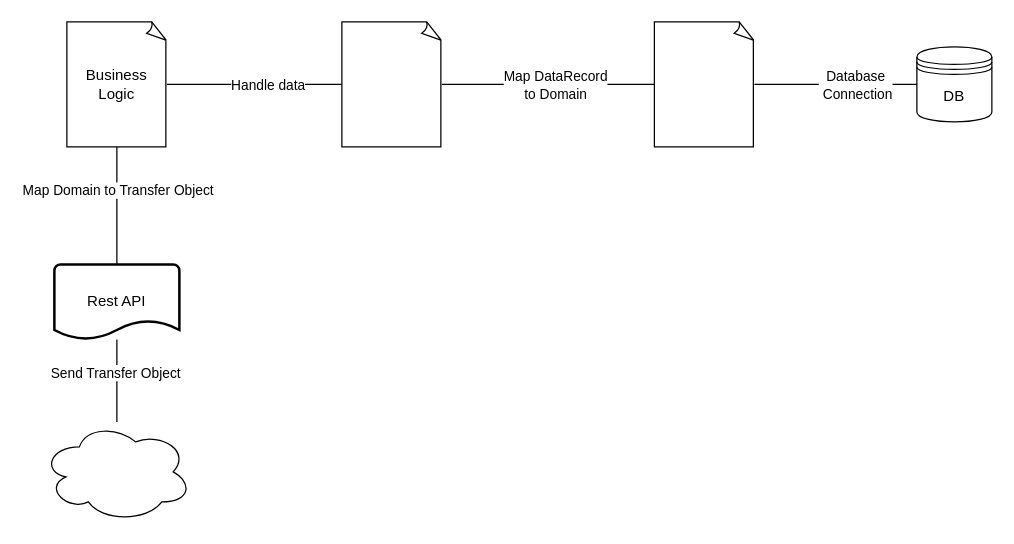
This 1014x544 diagram has some shape labels left out. Here are the shapes that lost their labels. From the top down, the centre of each, then its label:
the point at 391,84: Domain Class
the point at 703,84: Repository
